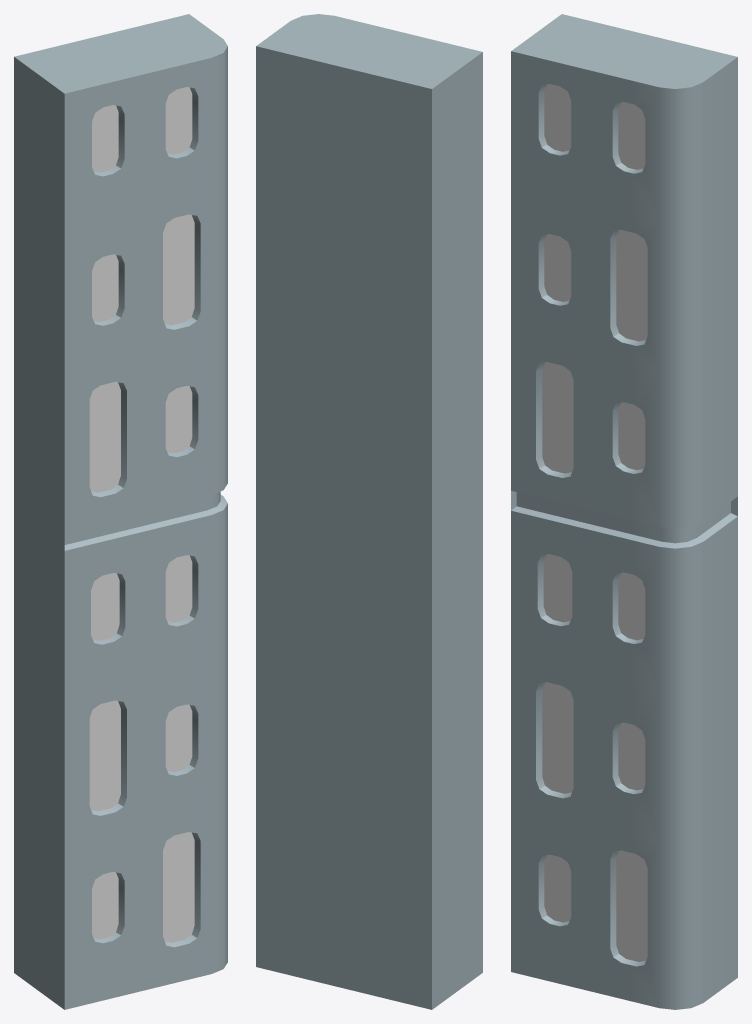
The model's file is BackRight_BigLight.fbx.
The picture shows the model from 3 angles, left to right: view 1: azimuth 30°, elevation 25°; view 2: azimuth 150°, elevation 25°; view 3: azimuth 330°, elevation 25°; orthographic projection.
Parts seen in each view (by area): view 1: BackRight_BigLight; view 2: BackRight_BigLight; view 3: BackRight_BigLight.
Part boxes in pixels (<box>): BackRight_BigLight: <box>14,14,227,1009</box>; BackRight_BigLight: <box>256,14,482,1009</box>; BackRight_BigLight: <box>511,14,737,1009</box>.
Size of the model in its own units: 200 by 1000 by 100.
